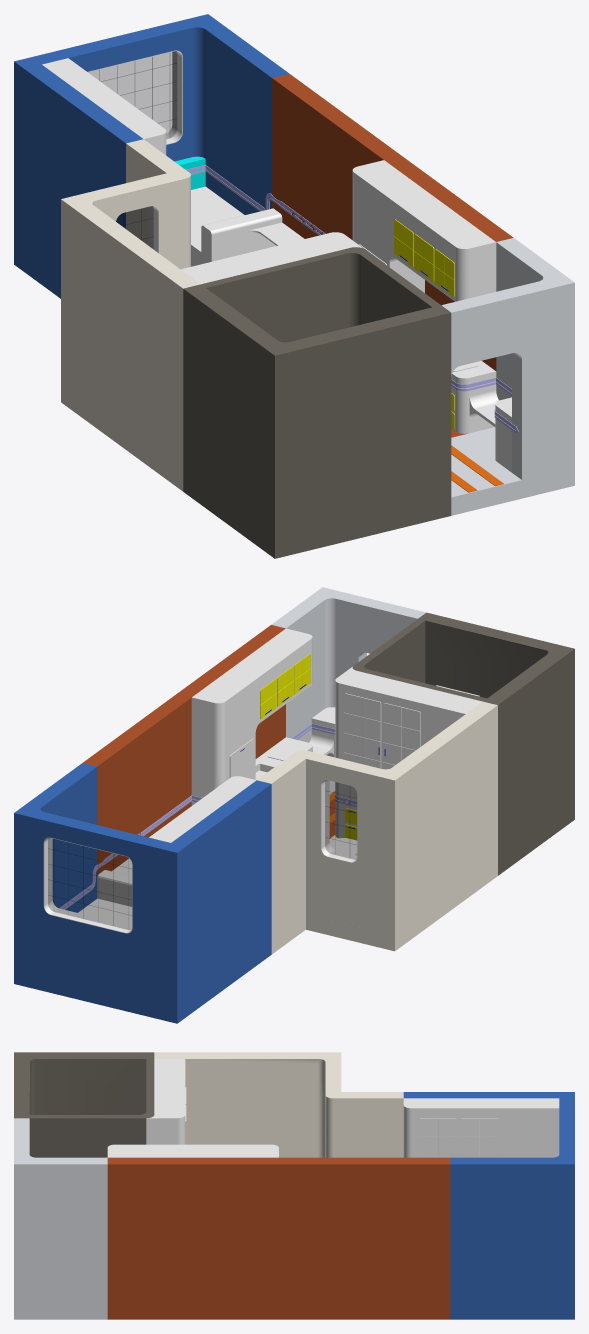
File: vision typeA OptionC.glb
3 views of the same model, one above another, from view 1: azimuth 30°, elevation 25°; view 2: azimuth 150°, elevation 25°; view 3: azimuth 270°, elevation 25° (orthographic). The views are drawn at different scales.
Visible parts, largest first — view 1: 厕所墙, 卧室墙, 客厅墙, 走廊墙, 厨房墙, 橱柜，木制或者整体性强的材质, 玻璃, 木板, 储物柜，木制或者整体性强的材质, 衣柜，木制或者整体性强的材质, 柜门，区别于整体的柜子, 换鞋凳（软） (+4 smaller); view 2: 卧室墙, 客厅墙, 厕所墙, 厨房墙, 橱柜，木制或者整体性强的材质, 走廊墙, 玻璃, 储物柜，木制或者整体性强的材质, 衣柜柜门（木板）, 窗框（金属）, 衣柜，木制或者整体性强的材质, 柜门，区别于整体的柜子 (+5 smaller); view 3: 厨房墙, 卧室墙, 客厅墙, 走廊墙, 厕所墙, 衣柜，木制或者整体性强的材质, 衣柜柜门（木板）, 储物柜，木制或者整体性强的材质, 橱柜，木制或者整体性强的材质.
Part boxes in pixels (<box>): 厕所墙: <box>183,247,451,558</box>; 卧室墙: <box>14,14,289,298</box>; 客厅墙: <box>61,139,200,491</box>; 走廊墙: <box>441,238,574,515</box>; 厨房墙: <box>272,74,513,437</box>; 橱柜，木制或者整体性强的材质: <box>352,160,496,433</box>; 玻璃: <box>88,51,176,248</box>; 木板: <box>201,208,304,264</box>; 储物柜，木制或者整体性强的材质: <box>181,232,363,284</box>; 衣柜，木制或者整体性强的材质: <box>42,58,166,155</box>; 柜门，区别于整体的柜子: <box>394,219,454,429</box>; 换鞋凳（软）: <box>469,390,511,472</box>; 卧室墙: <box>14,763,271,1023</box>; 客厅墙: <box>257,701,497,954</box>; 厕所墙: <box>352,612,574,875</box>; 厨房墙: <box>83,625,335,876</box>; 橱柜，木制或者整体性强的材质: <box>191,628,312,805</box>; 走廊墙: <box>271,587,425,794</box>; 玻璃: <box>48,780,356,929</box>; 储物柜，木制或者整体性强的材质: <box>335,666,482,838</box>; 衣柜柜门（木板）: <box>344,693,420,795</box>; 窗框（金属）: <box>43,779,357,933</box>; 衣柜，木制或者整体性强的材质: <box>149,776,256,842</box>; 柜门，区别于整体的柜子: <box>260,654,357,840</box>; 厨房墙: <box>107,1157,450,1319</box>; 卧室墙: <box>403,1092,574,1319</box>; 客厅墙: <box>154,1052,403,1157</box>; 走廊墙: <box>14,1118,107,1319</box>; 厕所墙: <box>14,1052,154,1157</box>; 衣柜，木制或者整体性强的材质: <box>403,1098,559,1157</box>; 衣柜柜门（木板）: <box>185,1087,498,1157</box>; 储物柜，木制或者整体性强的材质: <box>146,1059,185,1144</box>; 橱柜，木制或者整体性强的材质: <box>107,1144,278,1157</box>.
Bounding box in the file's own units: 5.1 × 3.3 × 10.8.
